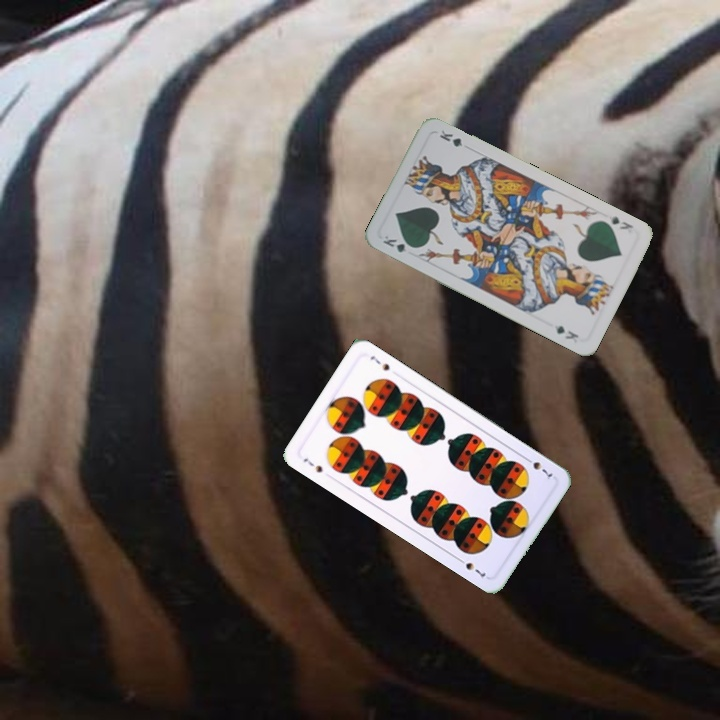GK: (379, 231, 418, 255), (604, 212, 636, 232)
S7: (521, 453, 557, 482), (299, 454, 325, 475)
